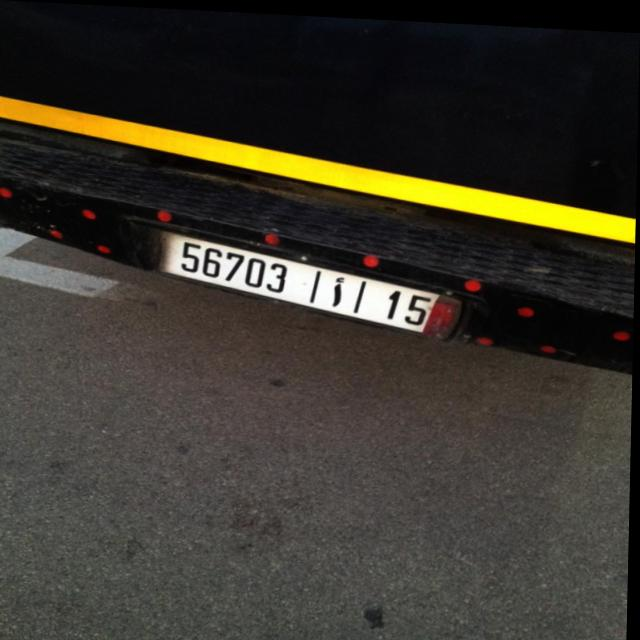License-Plate: (160, 230, 456, 332)
